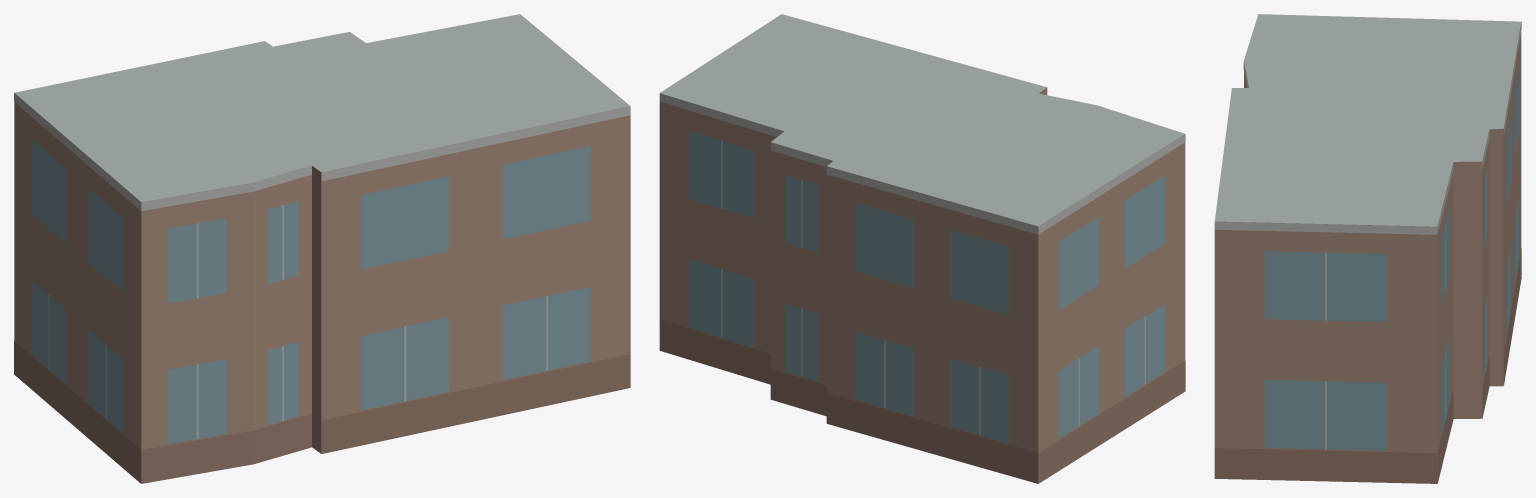
File: survey-upis-32691936.glb
3 renders of one model, left to right at view 1: azimuth 30°, elevation 25°; view 2: azimuth 150°, elevation 25°; view 3: azimuth 270°, elevation 25°, orthographic. The views are drawn at different scales.
Visible parts, largest first — view 1: survey-upis-32691936.tmp; view 2: survey-upis-32691936.tmp; view 3: survey-upis-32691936.tmp.
Boxes of the visible parts, <box> form: survey-upis-32691936.tmp: <box>14,14,630,483</box>; survey-upis-32691936.tmp: <box>659,14,1185,483</box>; survey-upis-32691936.tmp: <box>1214,14,1521,483</box>.
Bounding box in the file's own units: 13.48 × 7.6 × 8.22.
